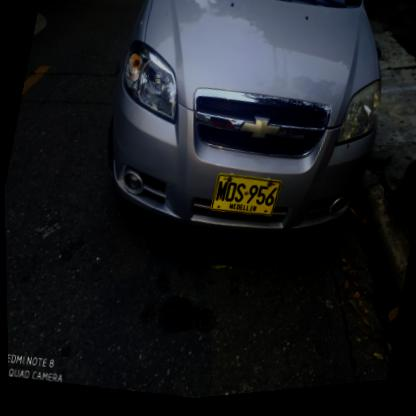placa: (206, 170, 282, 232)
